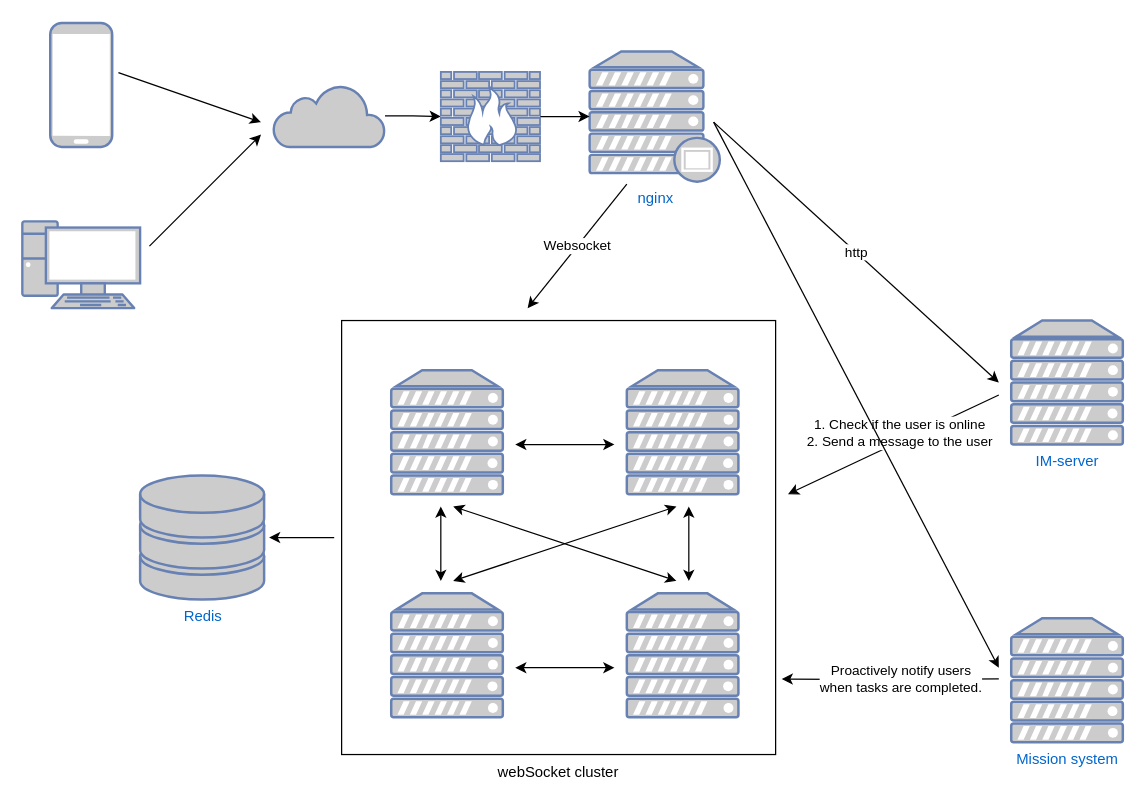
The diagram is 1146 pixels wide and 812 high, and some of its shapes have lost their labels. Each missing label, with the centre of its shape:
"User App" belongs at point (80, 84).
"Web" belongs at point (80, 264).
